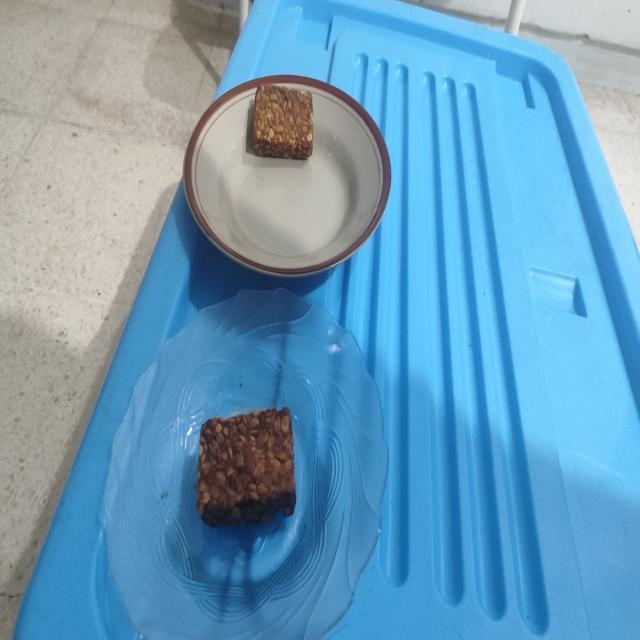tempe_goreng: (197, 408, 296, 526), (253, 84, 313, 160)
